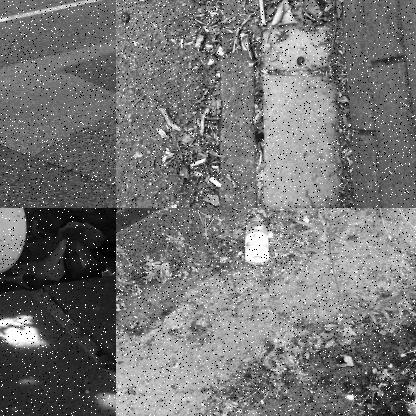plastic: (236, 215, 276, 266)
